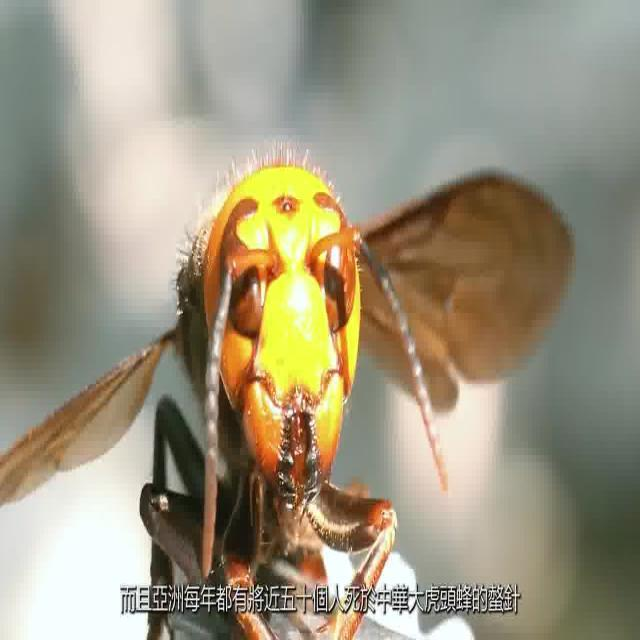Wasp: (3, 137, 576, 589)
